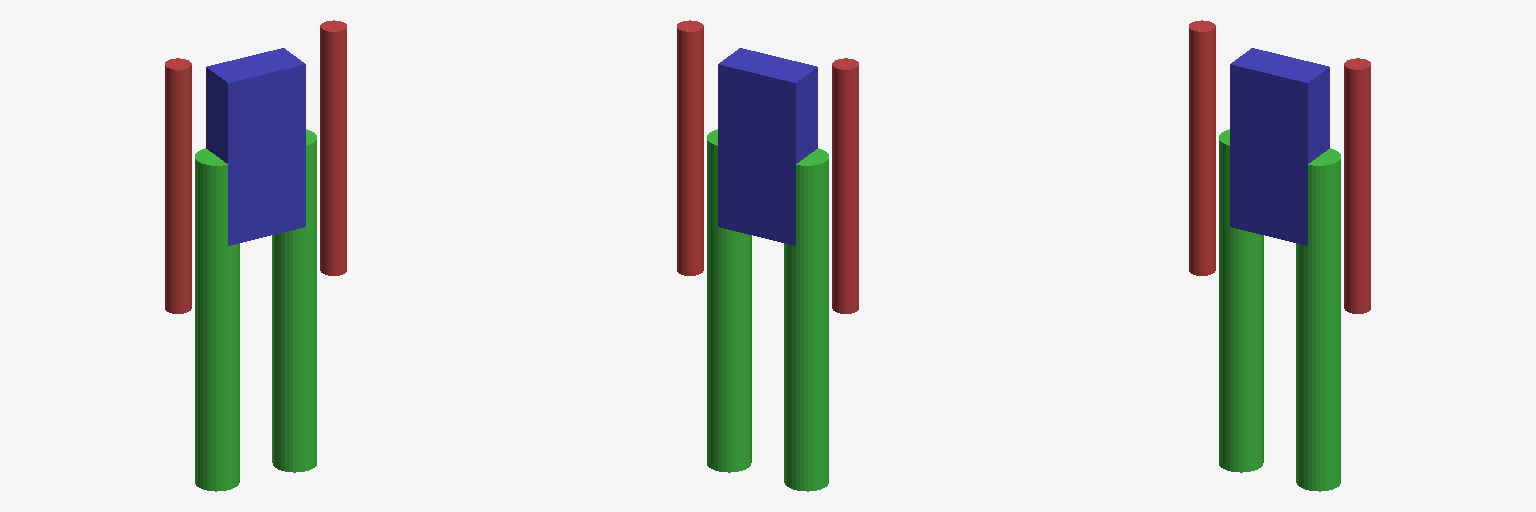
URDF robot description (simple_humanoid):
<?xml version="1.0"?>
<robot name="simple_humanoid">
  <!-- Torso -->
  <link name="torso">
    <visual>
      <geometry>
        <box size="0.2 0.1 0.4"/>
      </geometry>
      <material name="blue">
        <color rgba="0.3 0.3 0.8 1"/>
      </material>
    </visual>
  </link>

  <!-- Left Leg -->
  <joint name="left_hip" type="revolute">
    <parent link="torso"/>
    <child link="left_thigh"/>
    <origin xyz="-0.1 0 -0.2" rpy="0 0 0"/>
    <axis xyz="0 1 0"/>
    <limit lower="-1.0" upper="1.0" effort="100.0" velocity="1.0"/>
  </joint>

  <link name="left_thigh">
    <visual>
      <geometry>
        <cylinder radius="0.05" length="0.4"/>
      </geometry>
      <material name="green">
        <color rgba="0.3 0.8 0.3 1"/>
      </material>
    </visual>
  </link>

  <joint name="left_knee" type="revolute">
    <parent link="left_thigh"/>
    <child link="left_shin"/>
    <origin xyz="0 0 -0.4" rpy="0 0 0"/>
    <axis xyz="0 1 0"/>
    <limit lower="0.0" upper="2.0" effort="100.0" velocity="1.0"/>
  </joint>

  <link name="left_shin">
    <visual>
      <geometry>
        <cylinder radius="0.05" length="0.4"/>
      </geometry>
      <material name="green">
        <color rgba="0.3 0.8 0.3 1"/>
      </material>
    </visual>
  </link>

  <!-- Right Leg (similar structure to left leg) -->
  <joint name="right_hip" type="revolute">
    <parent link="torso"/>
    <child link="right_thigh"/>
    <origin xyz="0.1 0 -0.2" rpy="0 0 0"/>
    <axis xyz="0 1 0"/>
    <limit lower="-1.0" upper="1.0" effort="100.0" velocity="1.0"/>
  </joint>

  <link name="right_thigh">
    <visual>
      <geometry>
        <cylinder radius="0.05" length="0.4"/>
      </geometry>
      <material name="green">
        <color rgba="0.3 0.8 0.3 1"/>
      </material>
    </visual>
  </link>

  <joint name="right_knee" type="revolute">
    <parent link="right_thigh"/>
    <child link="right_shin"/>
    <origin xyz="0 0 -0.4" rpy="0 0 0"/>
    <axis xyz="0 1 0"/>
    <limit lower="0.0" upper="2.0" effort="100.0" velocity="1.0"/>
  </joint>

  <link name="right_shin">
    <visual>
      <geometry>
        <cylinder radius="0.05" length="0.4"/>
      </geometry>
      <material name="green">
        <color rgba="0.3 0.8 0.3 1"/>
      </material>
    </visual>
  </link>

  <!-- Left Arm -->
  <joint name="left_shoulder" type="revolute">
    <parent link="torso"/>
    <child link="left_upper_arm"/>
    <origin xyz="-0.2 0 0.1" rpy="0 0 0"/>
    <axis xyz="0 0 1"/>
    <limit lower="-1.5" upper="1.5" effort="50.0" velocity="1.0"/>
  </joint>

  <link name="left_upper_arm">
    <visual>
      <geometry>
        <cylinder radius="0.03" length="0.3"/>
      </geometry>
      <material name="red">
        <color rgba="0.8 0.3 0.3 1"/>
      </material>
    </visual>
  </link>

  <joint name="left_elbow" type="revolute">
    <parent link="left_upper_arm"/>
    <child link="left_forearm"/>
    <origin xyz="0 0 -0.3" rpy="0 0 0"/>
    <axis xyz="0 1 0"/>
    <limit lower="0.0" upper="2.0" effort="50.0" velocity="1.0"/>
  </joint>

  <link name="left_forearm">
    <visual>
      <geometry>
        <cylinder radius="0.03" length="0.3"/>
      </geometry>
      <material name="red">
        <color rgba="0.8 0.3 0.3 1"/>
      </material>
    </visual>
  </link>

  <!-- Right Arm (similar structure to left arm) -->
  <joint name="right_shoulder" type="revolute">
    <parent link="torso"/>
    <child link="right_upper_arm"/>
    <origin xyz="0.2 0 0.1" rpy="0 0 0"/>
    <axis xyz="0 0 1"/>
    <limit lower="-1.5" upper="1.5" effort="50.0" velocity="1.0"/>
  </joint>

  <link name="right_upper_arm">
    <visual>
      <geometry>
        <cylinder radius="0.03" length="0.3"/>
      </geometry>
      <material name="red">
        <color rgba="0.8 0.3 0.3 1"/>
      </material>
    </visual>
  </link>

  <joint name="right_elbow" type="revolute">
    <parent link="right_upper_arm"/>
    <child link="right_forearm"/>
    <origin xyz="0 0 -0.3" rpy="0 0 0"/>
    <axis xyz="0 1 0"/>
    <limit lower="0.0" upper="2.0" effort="50.0" velocity="1.0"/>
  </joint>

  <link name="right_forearm">
    <visual>
      <geometry>
        <cylinder radius="0.03" length="0.3"/>
      </geometry>
      <material name="red">
        <color rgba="0.8 0.3 0.3 1"/>
      </material>
    </visual>
  </link>
</robot>

--- Render facts (derived) ---
Views: 3 orthographic renders of the robot side by side, from view 1: azimuth 30°, elevation 25°; view 2: azimuth 150°, elevation 25°; view 3: azimuth 330°, elevation 25°.
Model simple_humanoid with 9 links and 8 joints (8 revolute), rooted at torso, posed all joints at 0.
Visible links, largest first — view 1: torso, right_shin, left_shin, left_thigh, right_thigh, left_upper_arm, right_upper_arm, left_forearm, right_forearm; view 2: torso, right_shin, left_shin, left_thigh, right_thigh, left_upper_arm, right_upper_arm, left_forearm, right_forearm; view 3: torso, left_shin, right_shin, right_thigh, left_thigh, right_upper_arm, left_upper_arm, left_forearm, right_forearm.
Link boxes in pixels (x1,y1,x2,y2): torso: [206, 48, 305, 245]; right_shin: [272, 300, 316, 472]; left_shin: [195, 320, 239, 491]; left_thigh: [195, 148, 239, 328]; right_thigh: [272, 129, 316, 309]; left_upper_arm: [165, 58, 191, 191]; right_upper_arm: [320, 20, 346, 153]; left_forearm: [165, 187, 191, 313]; right_forearm: [320, 149, 346, 275]; torso: [718, 48, 817, 245]; right_shin: [707, 300, 751, 472]; left_shin: [784, 320, 828, 491]; left_thigh: [784, 148, 828, 328]; right_thigh: [707, 129, 751, 309]; left_upper_arm: [832, 58, 858, 191]; right_upper_arm: [677, 20, 703, 153]; left_forearm: [832, 187, 858, 313]; right_forearm: [677, 149, 703, 275]; torso: [1230, 48, 1329, 245]; left_shin: [1219, 300, 1263, 472]; right_shin: [1296, 320, 1340, 491]; right_thigh: [1296, 148, 1340, 328]; left_thigh: [1219, 129, 1263, 309]; right_upper_arm: [1344, 58, 1370, 191]; left_upper_arm: [1189, 20, 1215, 153]; left_forearm: [1189, 149, 1215, 275]; right_forearm: [1344, 187, 1370, 313].
Size in the robot's own frame: 0.46 by 0.1 by 1.05 metres.
Geometry: primitives only (box / cylinder / sphere), no mesh files.